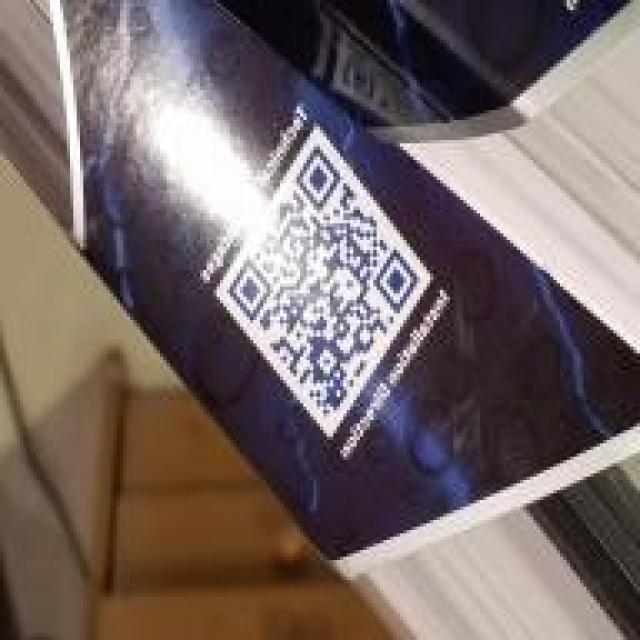qr_code: (227, 146, 419, 418)
